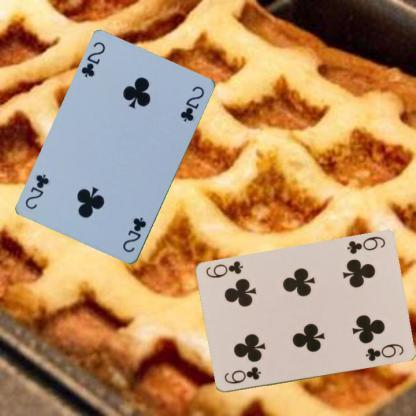2c: (78, 39, 107, 79), (120, 214, 148, 255)
6c: (344, 234, 386, 256), (222, 364, 262, 386)
